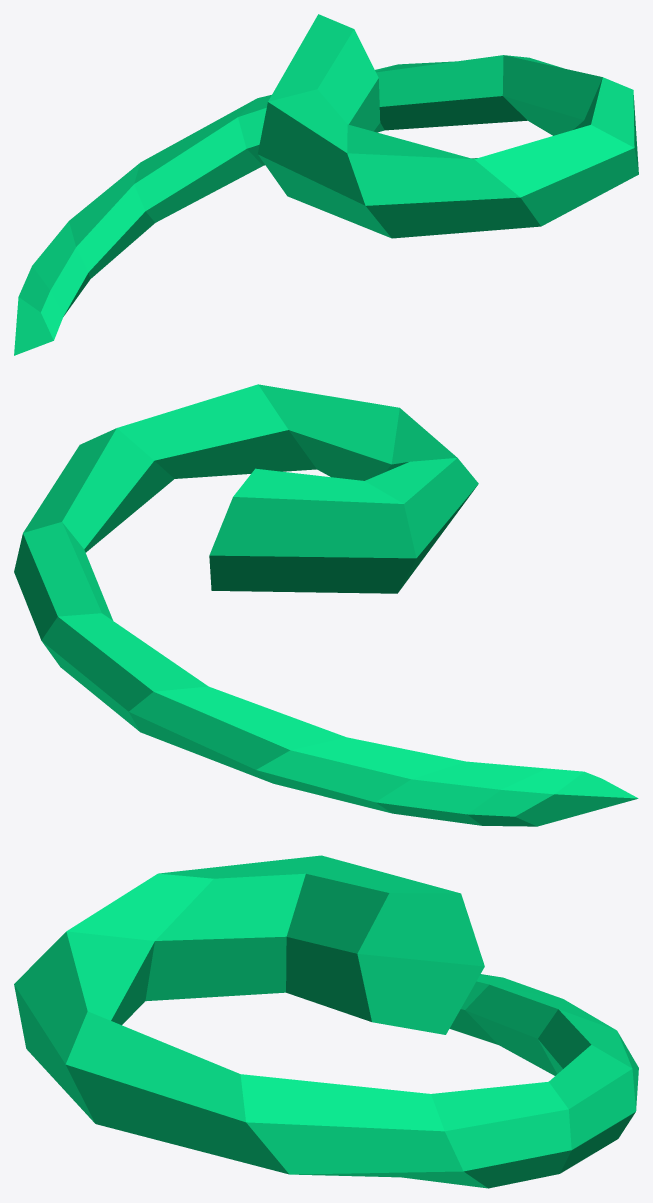
The picture shows the model from 3 angles, top to bottom: view 1: azimuth 30°, elevation 25°; view 2: azimuth 150°, elevation 25°; view 3: azimuth 270°, elevation 25°; orthographic projection. The views are drawn at different scales.
Visible parts, largest first — view 1: Root_08; view 2: Root_08; view 3: Root_08.
Boxes of the visible parts, box(x1,y1,x2,y2) form: Root_08: box(14, 14, 638, 355); Root_08: box(14, 384, 638, 826); Root_08: box(14, 855, 638, 1188).
Size of the model in its own units: 327 by 132 by 243.
